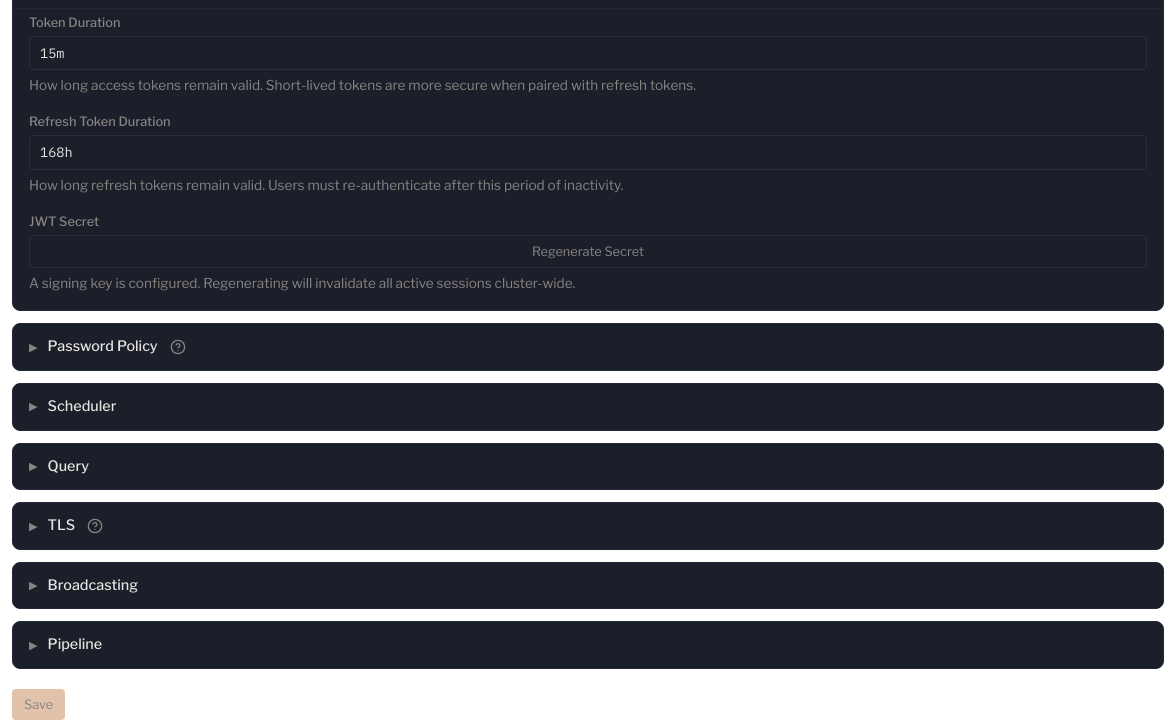
Test: ServiceSettings › broadcasting section shows broadcast interval
The image size is (1164, 720).
(page scrolled)
Click the text "Broadcasting" at (93, 586), box [48,575,138,596]
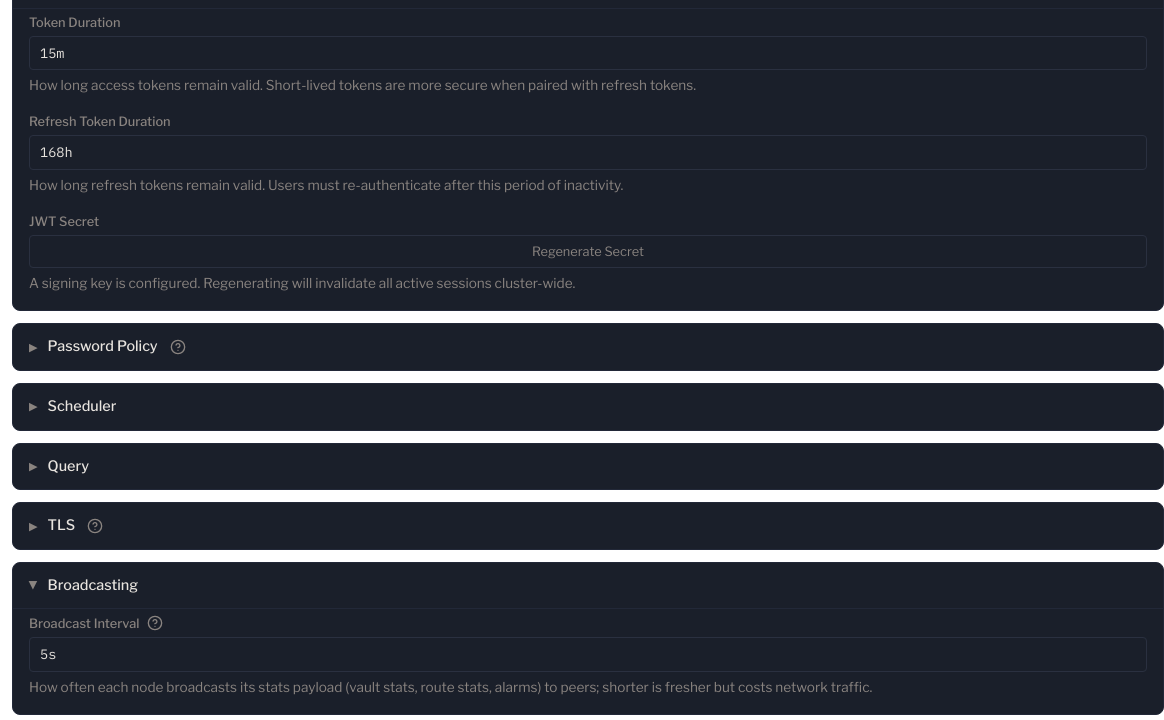
expect the text "Broadcast Interval" is shown: met, box [29,614,140,633]
expect the field showing "5s" is shown: met, box [29,637,1147,672]
